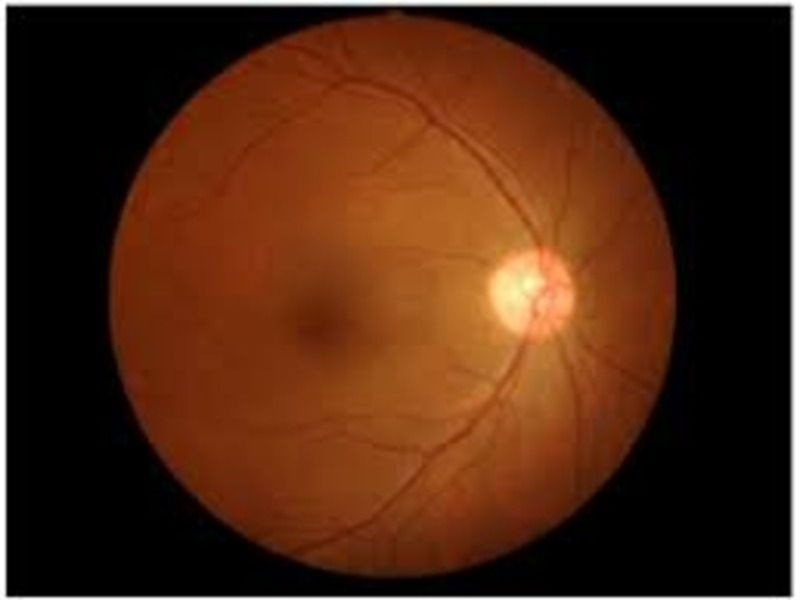Optic Cup: (492, 271, 542, 331)
Optic Disc: (486, 248, 575, 344)
